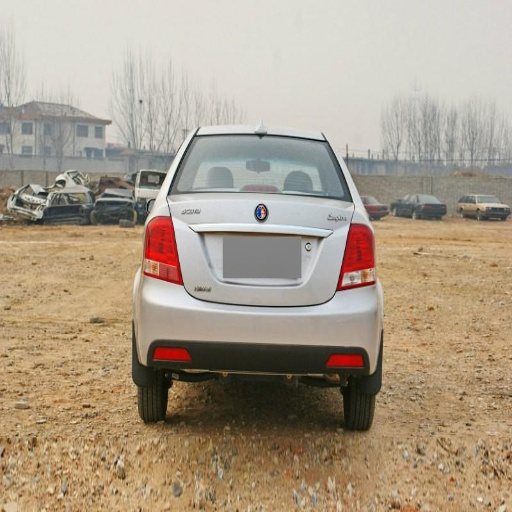back_bumper: (135, 278, 380, 385)
